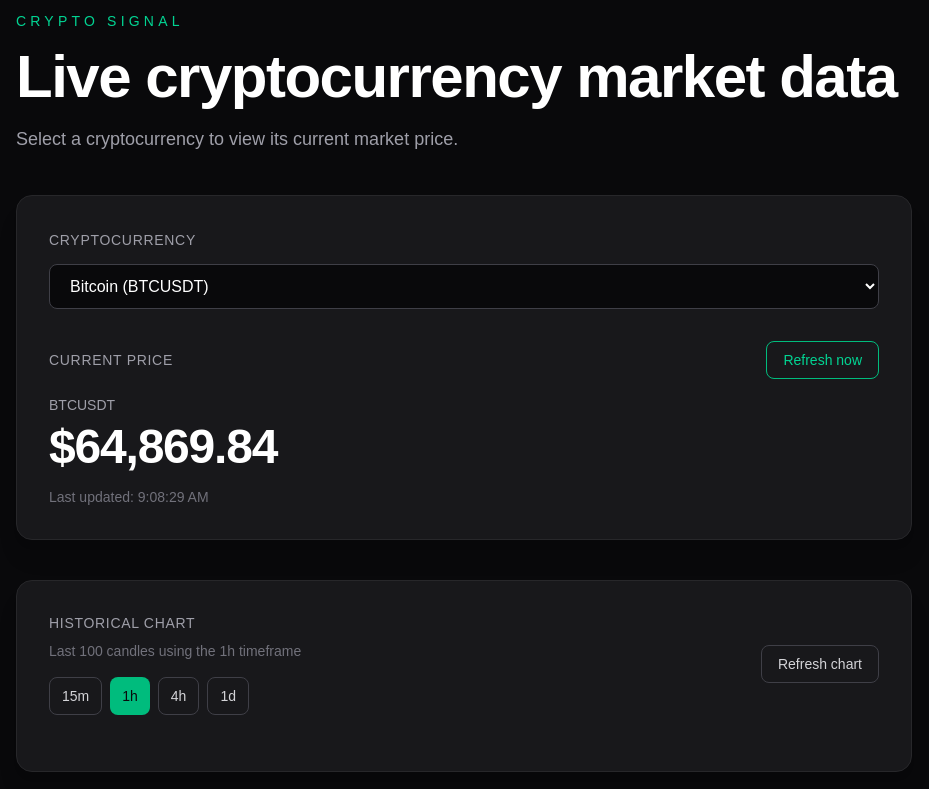
Test: Home page › refreshes the price when the user clicks Refresh now
The image size is (929, 789).
Expected: the text "$64,869.84" is shown, [49,420,277,473]
What coordinates should you click on to do the following:
click the button "Refresh now"
I would click on:
 (823, 360)
Its box is [766,341,879,379].
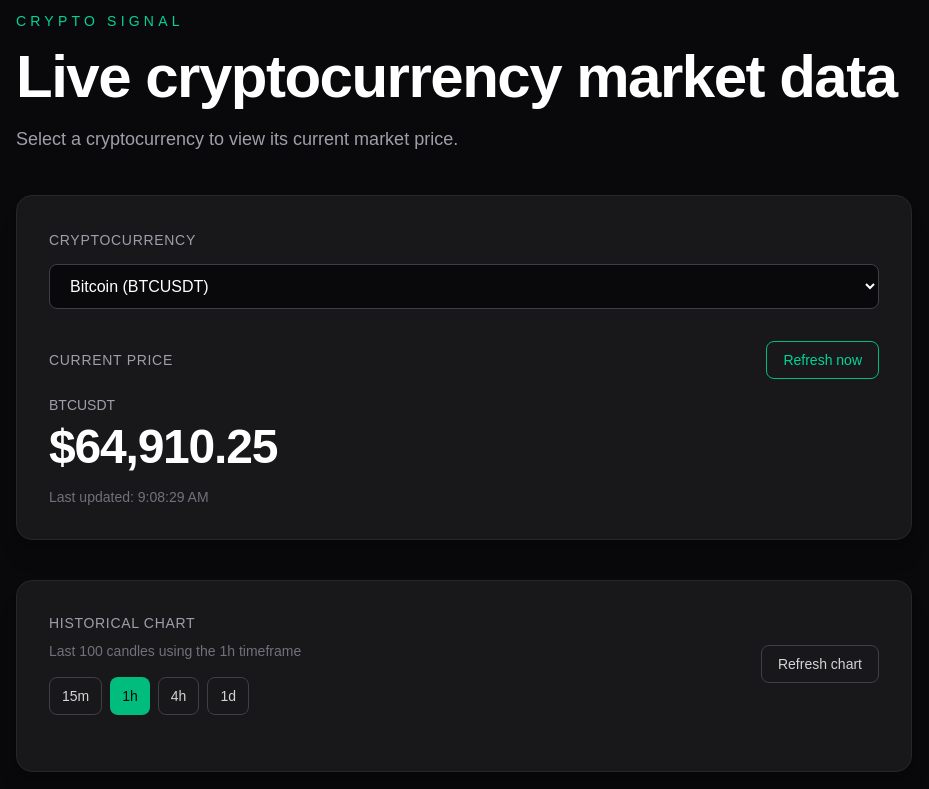
Expected: the text "$64,910.25" is shown, [49,420,277,473]
